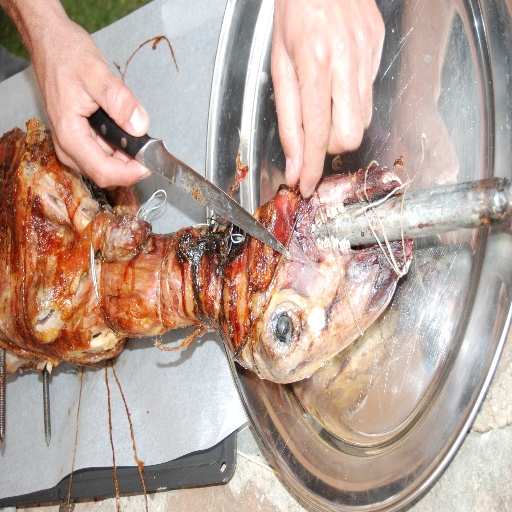hand: (11, 9, 157, 187), (270, 0, 386, 201)
